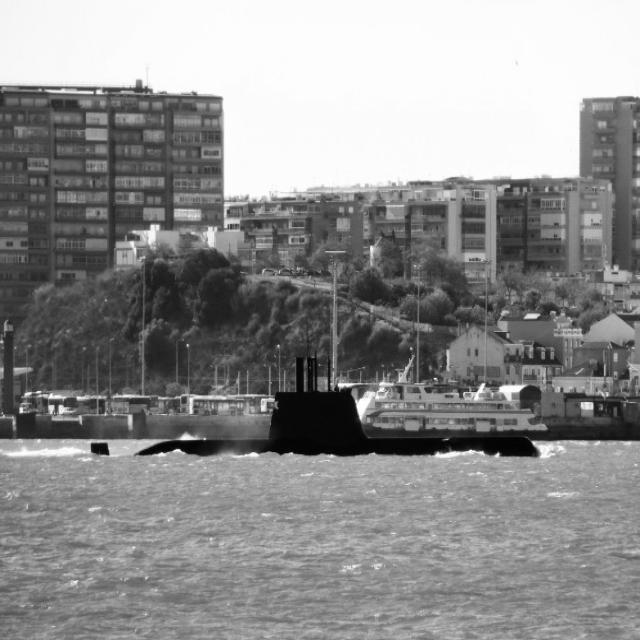submarine: (92, 356, 539, 456)
